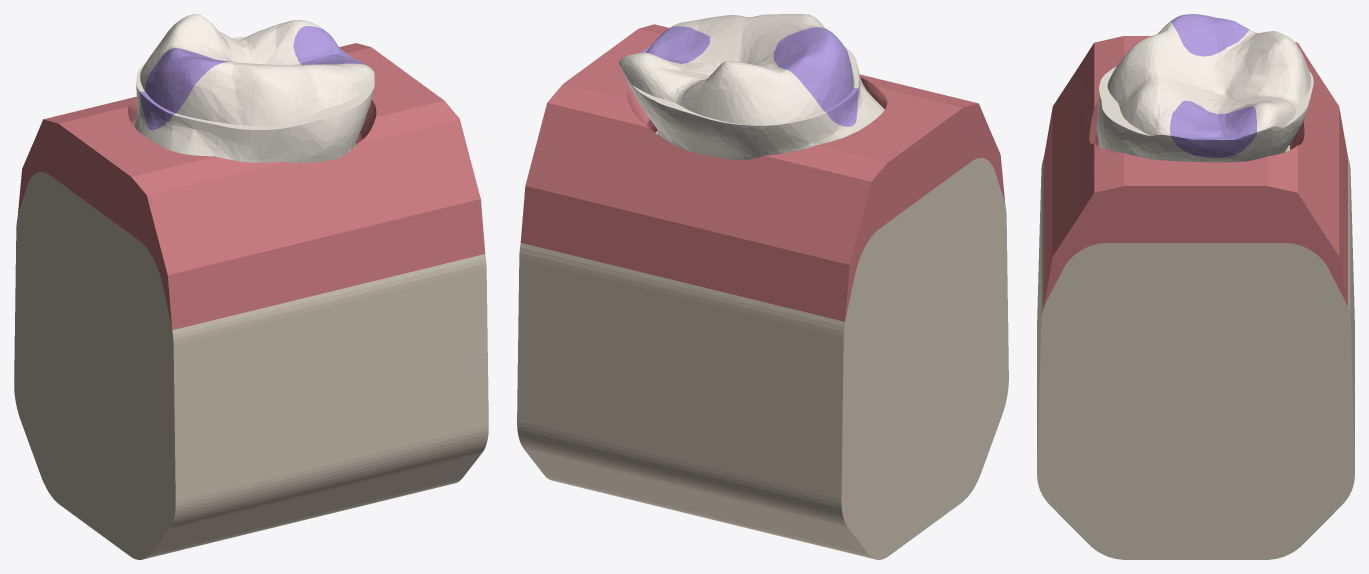
Rendered from prepared.glb.
The picture shows the model from 3 angles, left to right: view 1: azimuth 30°, elevation 25°; view 2: azimuth 150°, elevation 25°; view 3: azimuth 270°, elevation 25°; orthographic projection. The views are drawn at different scales.
Parts seen in each view (by area): view 1: bone, gum, teeth, filling; view 2: bone, gum, teeth, filling; view 3: bone, gum, teeth, filling.
Part boxes in pixels (bbox=[...]): bone: bbox=[14, 172, 488, 559]; gum: bbox=[17, 43, 485, 329]; teeth: bbox=[134, 14, 374, 162]; filling: bbox=[140, 26, 368, 130]; bone: bbox=[517, 131, 1008, 559]; gum: bbox=[520, 24, 1005, 321]; teeth: bbox=[619, 14, 884, 159]; filling: bbox=[640, 26, 858, 126]; bone: bbox=[1037, 144, 1354, 559]; gum: bbox=[1044, 36, 1347, 306]; teeth: bbox=[1097, 21, 1313, 162]; filling: bbox=[1170, 14, 1256, 158].
Bounding box in the file's own units: 0.0142 × 0.0194 × 0.0127.
